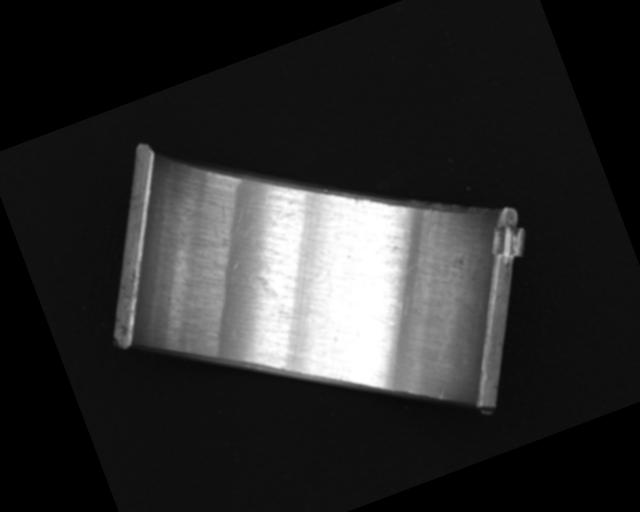nick: (436, 384, 450, 400)
